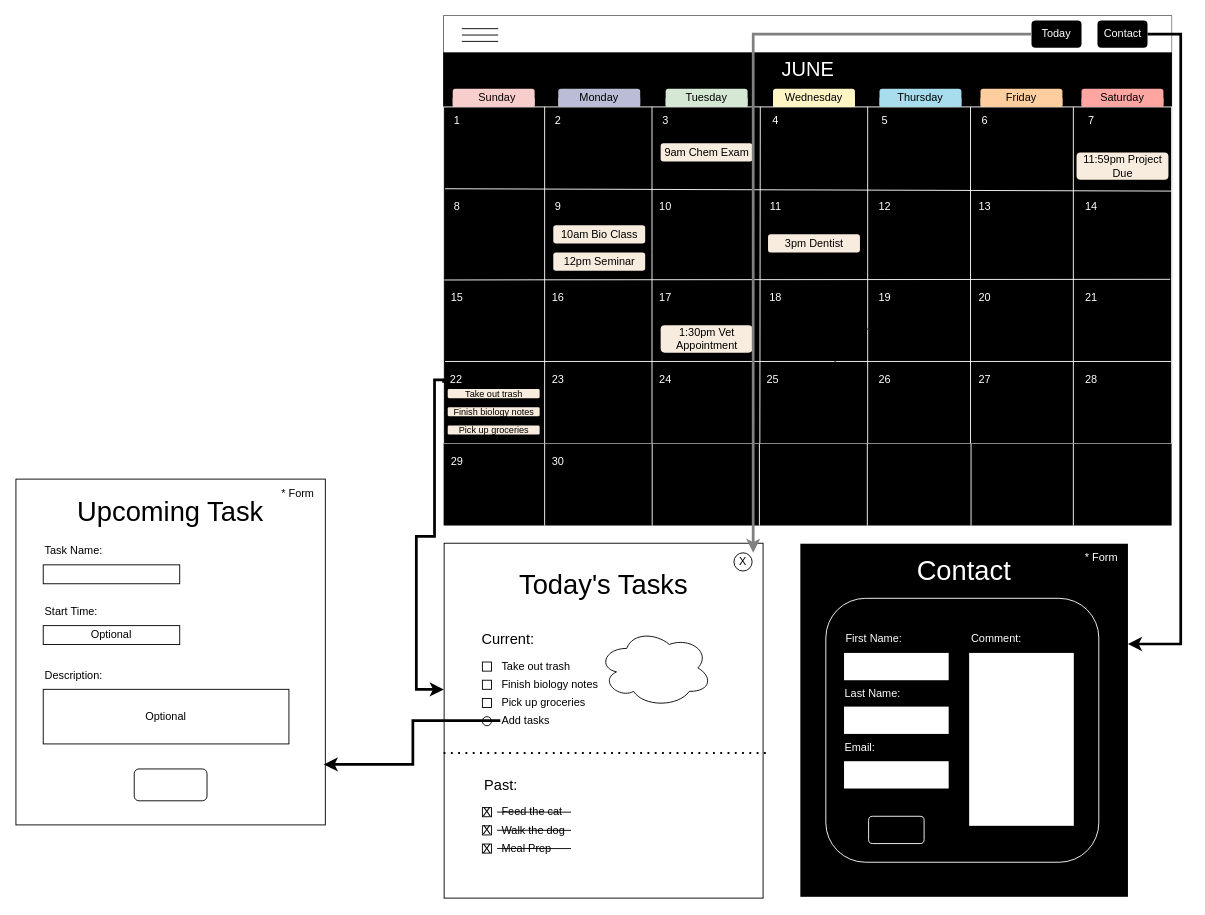
The diagram is 1205 pixels wide and 915 high, and some of its shapes have lost their labels. Here are the shapes that lost their labels. From the top down, the box of each, then its label:
(597, 628, 712, 707): When you hover you access details of task
(133, 768, 207, 801): Add
(868, 815, 924, 844): Send
